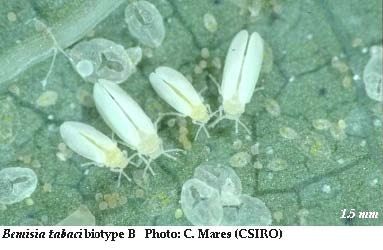whitefly: (90, 77, 179, 175), (149, 65, 220, 142), (217, 28, 263, 136), (60, 121, 137, 183)
